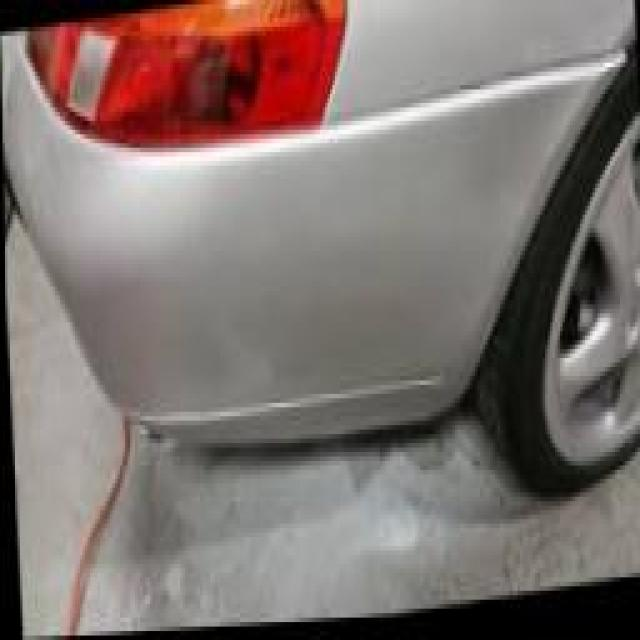Bumper: (149, 271, 360, 422)
Fender: (520, 15, 636, 134)
